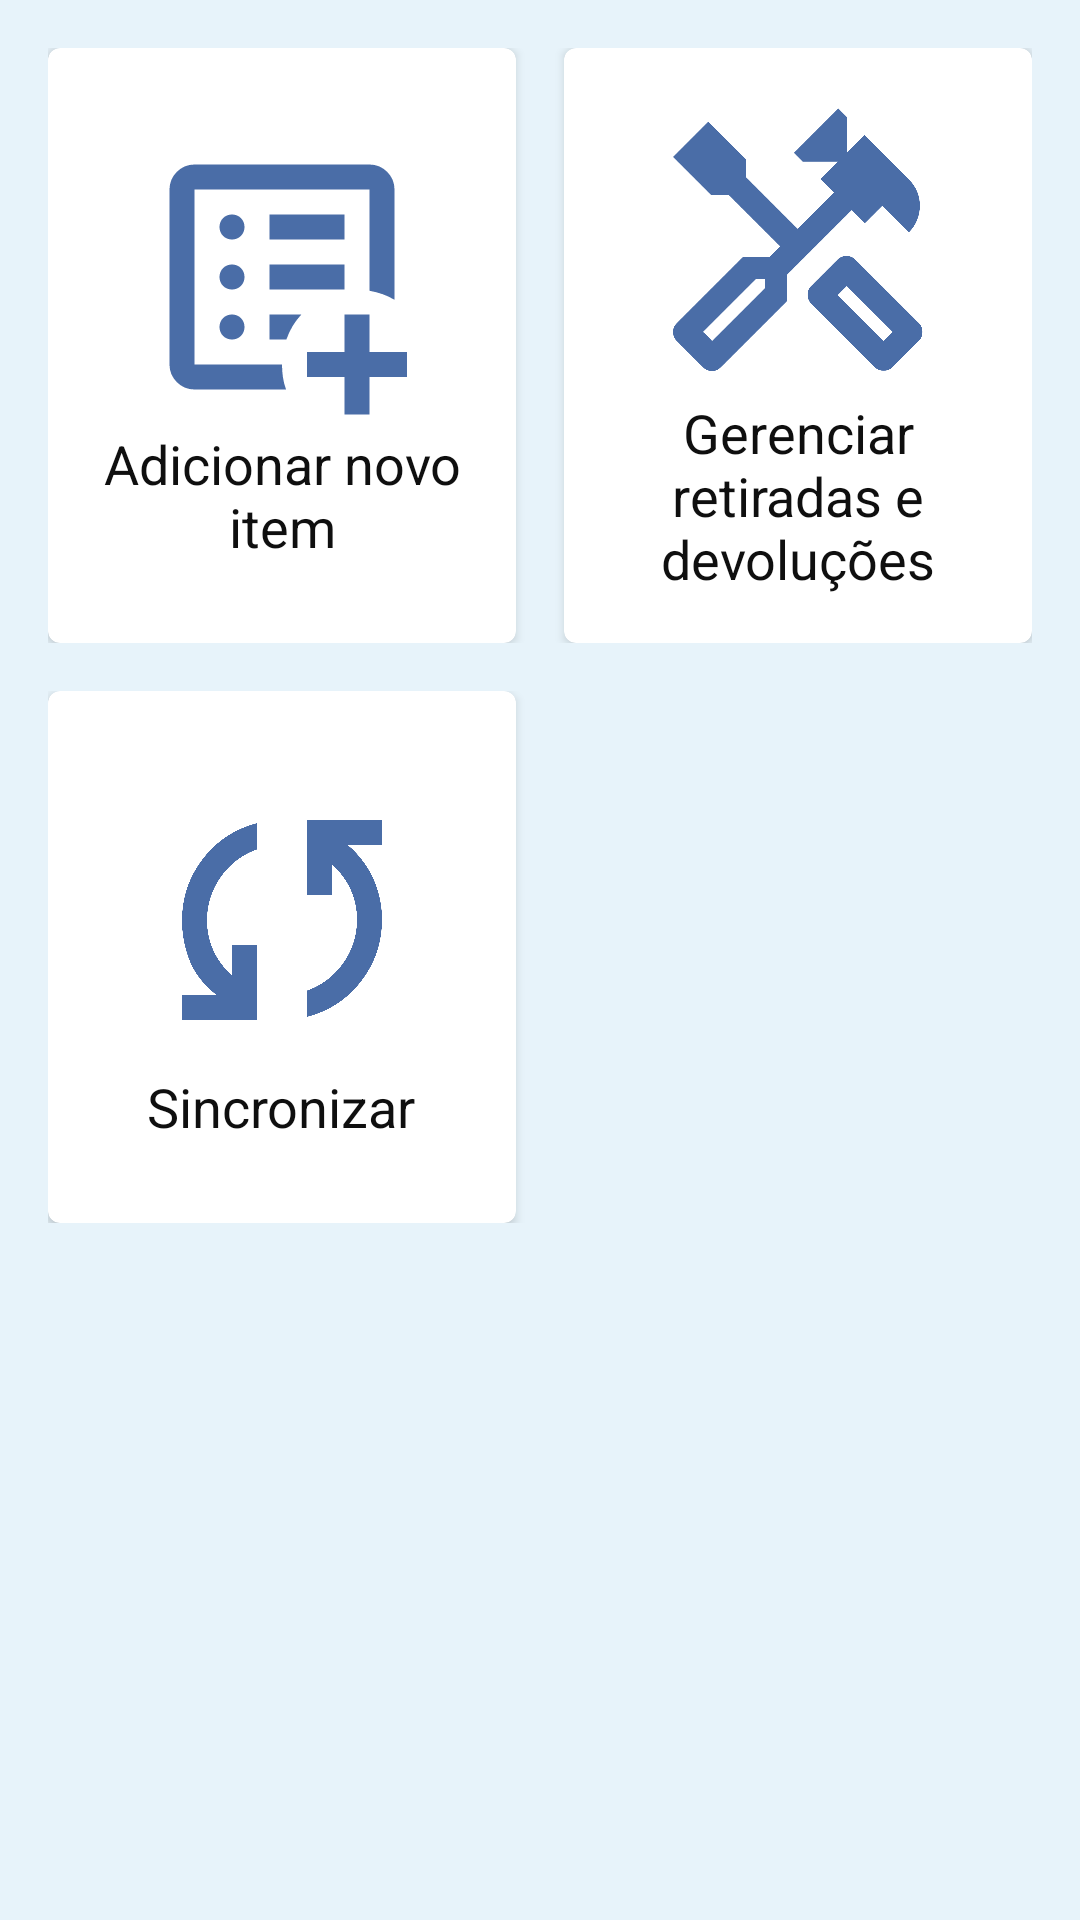

Where to tap for icons on this 1080×1920 app screen, as (x,y):
warehouse control tools: (797,239)
